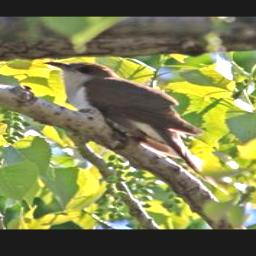Cuckoo: (43, 59, 210, 187)
